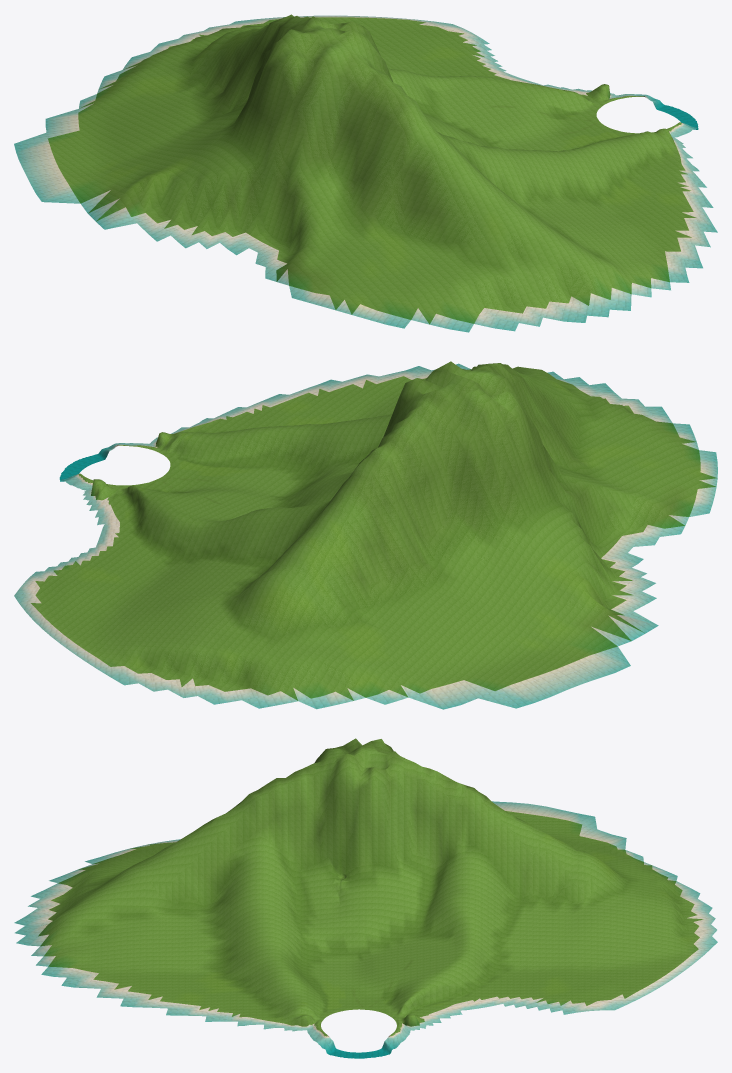
Rendered from beach_island.glb.
The picture shows the model from 3 angles, top to bottom: view 1: azimuth 30°, elevation 25°; view 2: azimuth 150°, elevation 25°; view 3: azimuth 270°, elevation 25°; orthographic projection. The views are drawn at different scales.
Parts seen in each view (by area): view 1: BeachIsland; view 2: BeachIsland; view 3: BeachIsland.
Part boxes in pixels (x1,y1,x2,y2): BeachIsland: (14, 14, 717, 332); BeachIsland: (14, 361, 717, 709); BeachIsland: (14, 738, 717, 1058).
Size of the model in its own units: 1189 by 341 by 1399.
3 materials, 3 textured.
